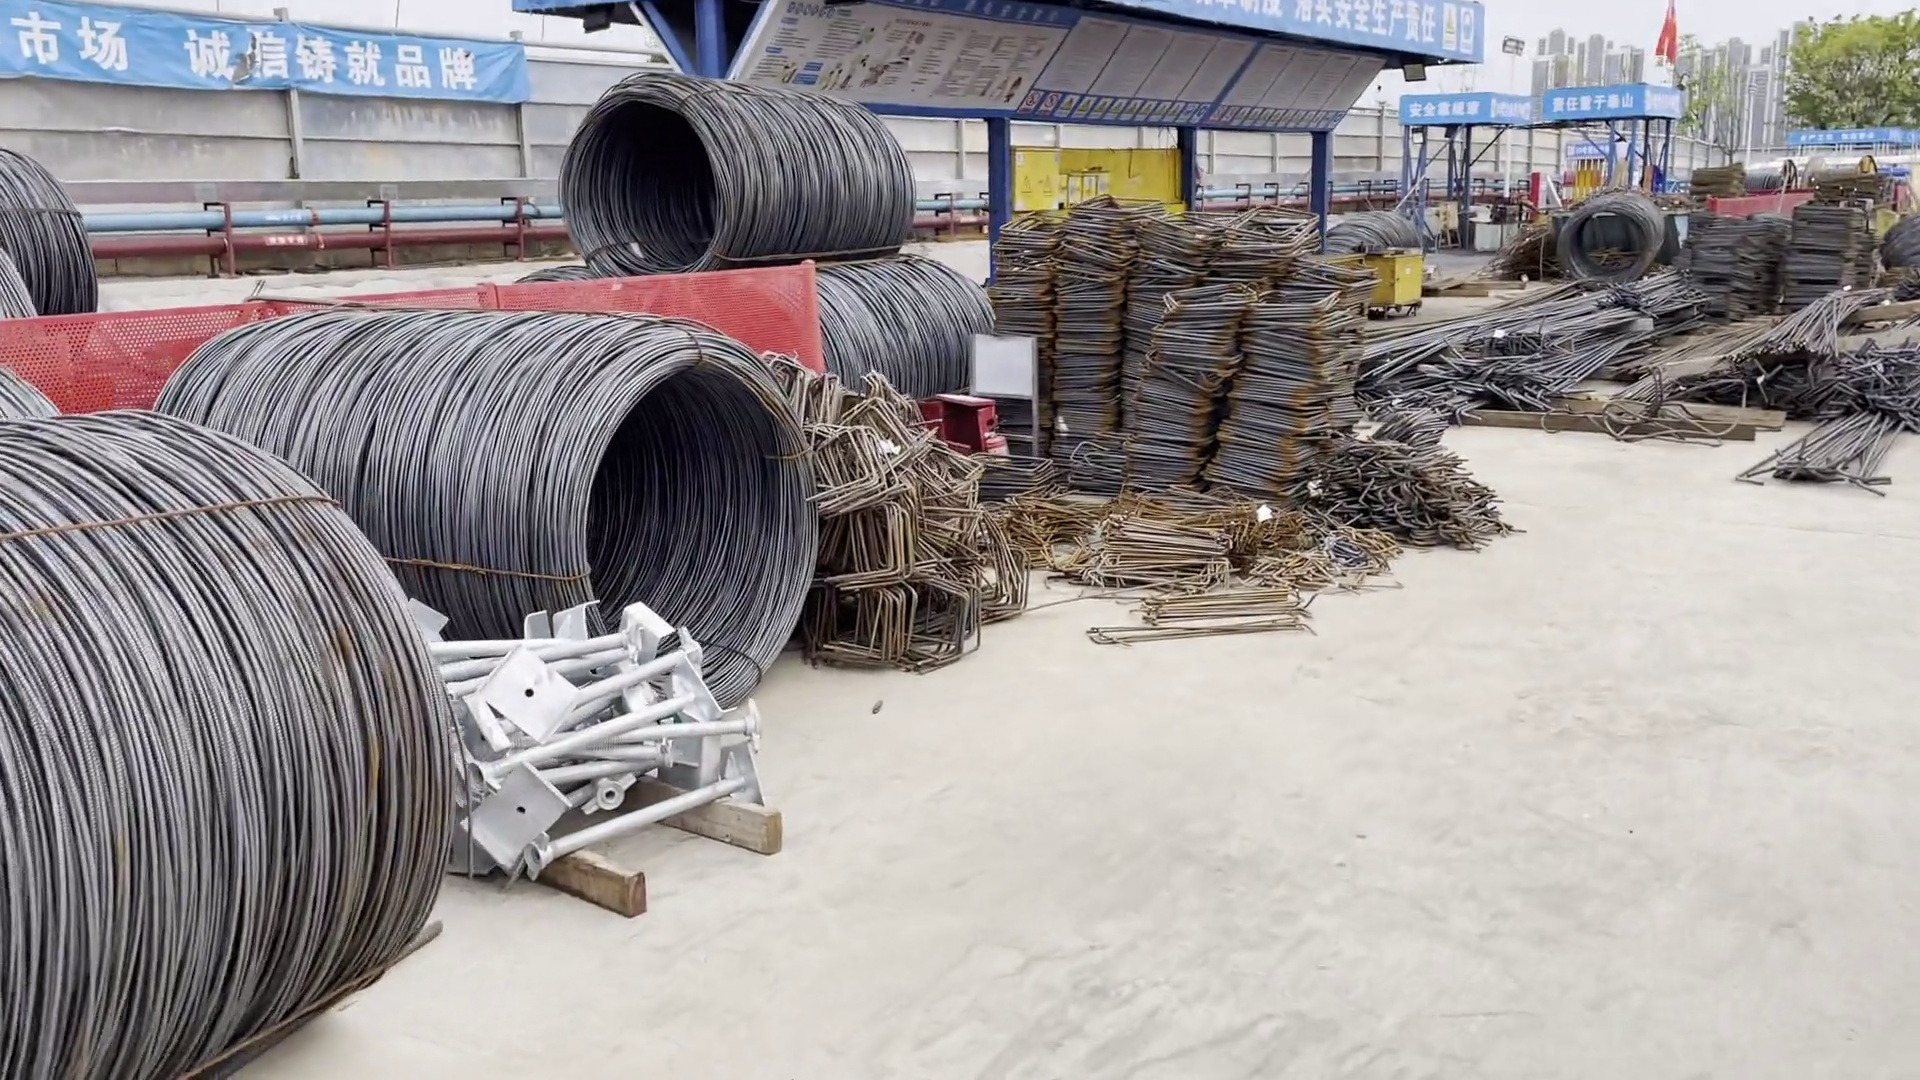ebox: (1007, 148, 1064, 229)
rebar: (1337, 265, 1733, 407), (1698, 284, 1920, 495)
slogan: (1, 7, 477, 111)
